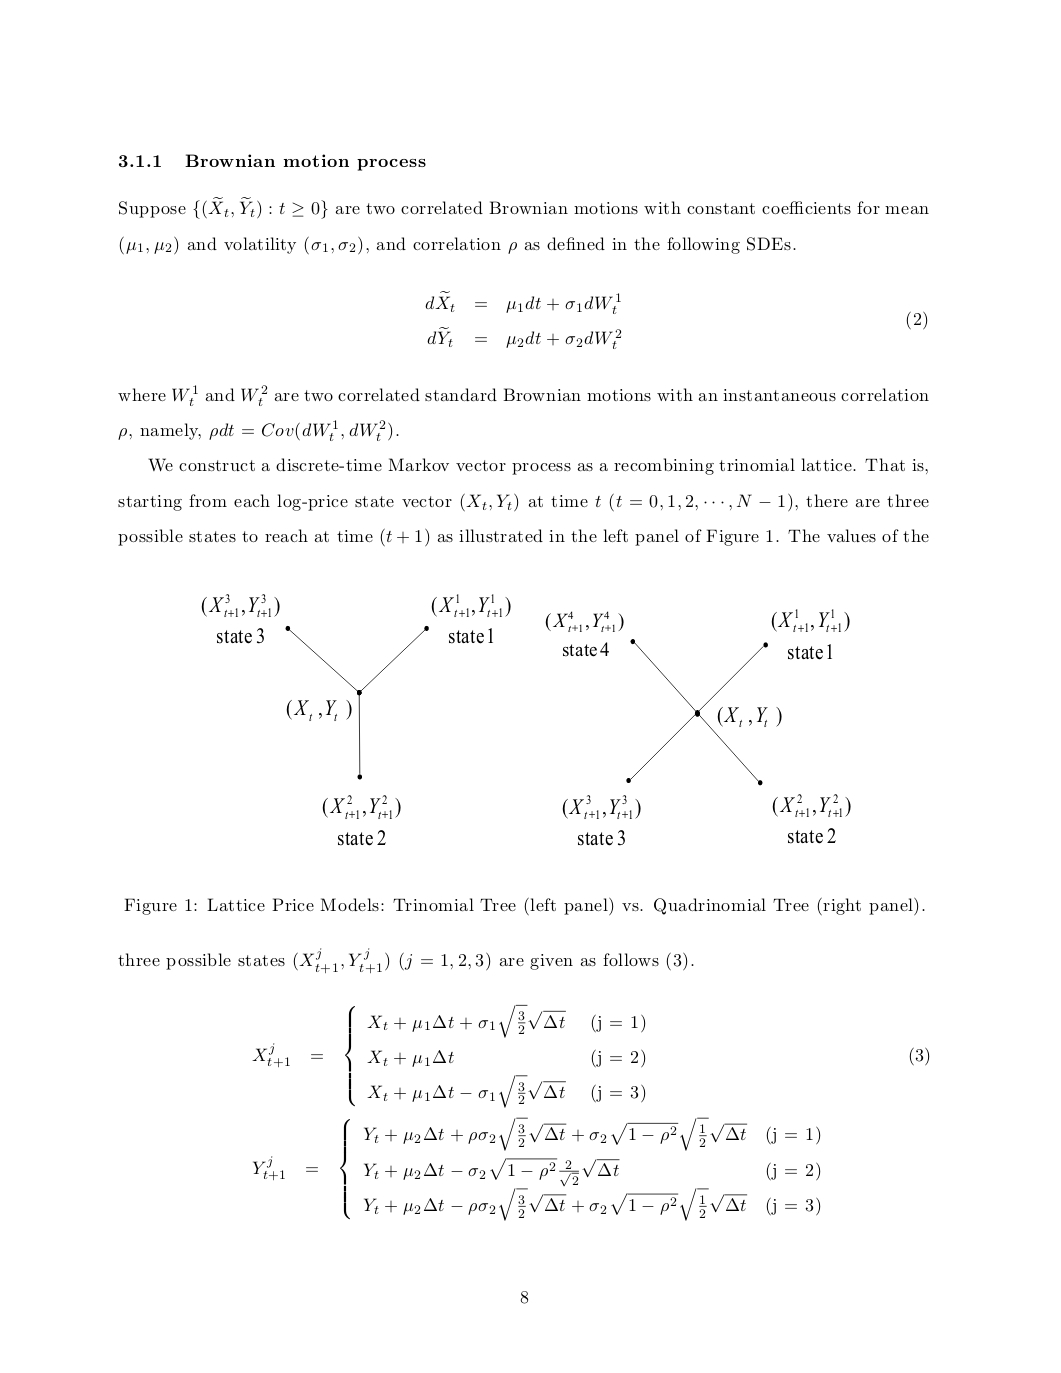figure: (201, 594, 510, 818), (545, 608, 850, 818)
formula: (252, 1003, 929, 1108), (252, 1116, 820, 1221), (425, 290, 927, 349)
